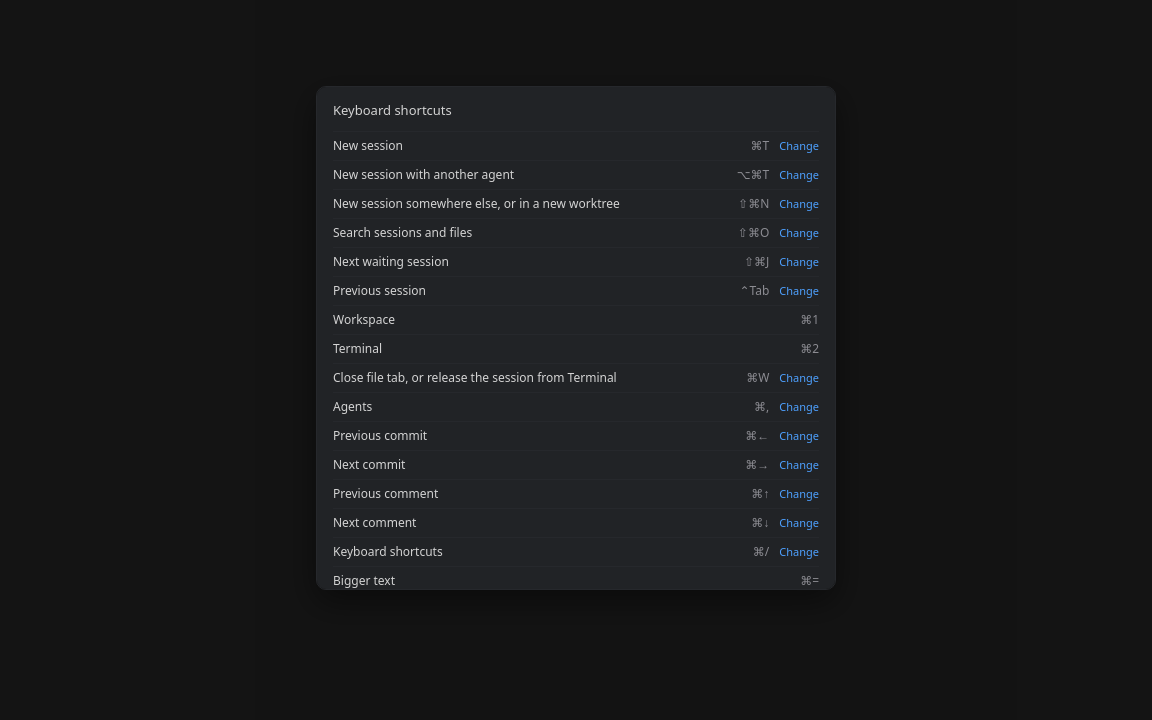
ShortcutsDialog › moves a shortcut to the keys pressed next, keeps it, and puts it back
Expected: the text "⌘T" is shown, [751,137,769,154]
Expected: the text "⌘2" is shown, [800,340,819,357]
Click the button with aria-label "Change the key for New session" at (799, 146), box [779,138,819,154]
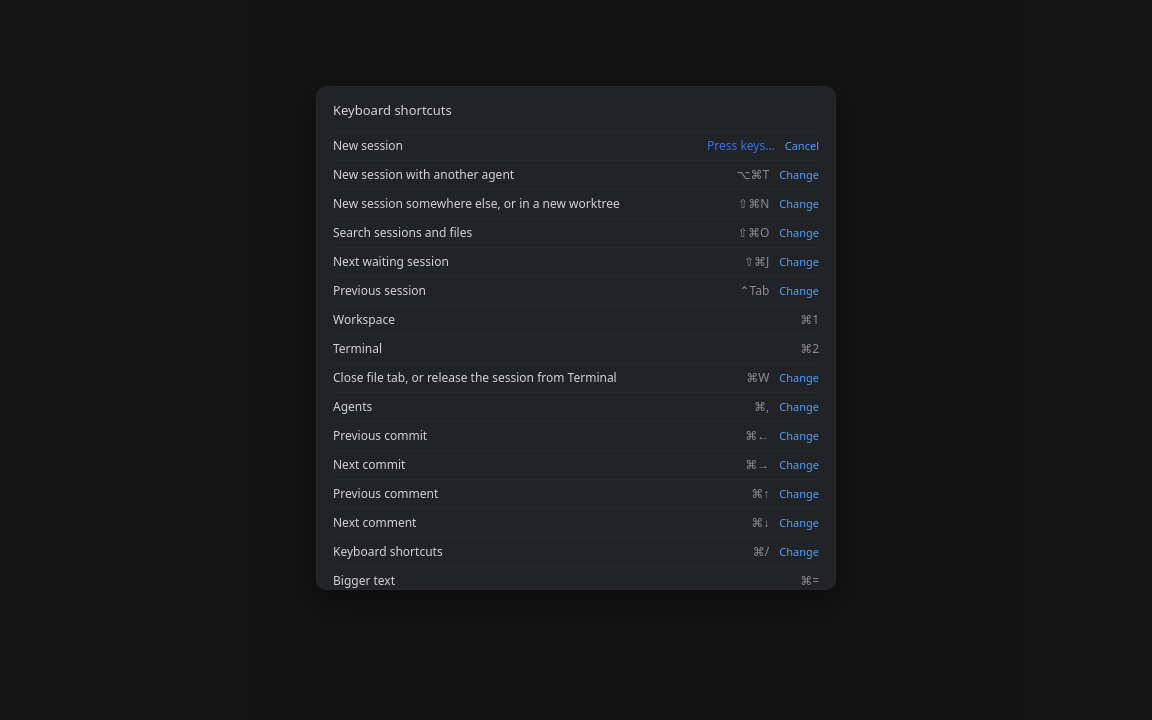
Expected: the text "Press keys…" is shown, [707,137,775,155]
Press Meta
Press k
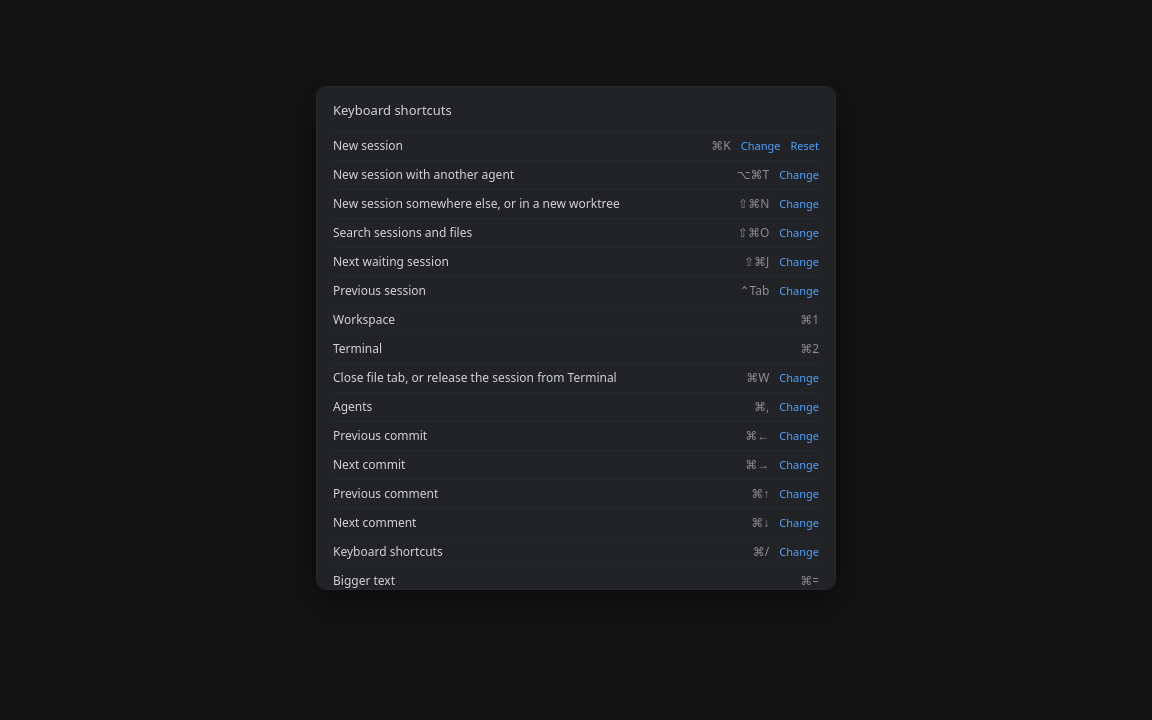
Expected: the text "⌘K" is shown, [711,137,731,154]
Click the button with aria-label "Put New session back on its own key" at (805, 146), box [790,138,819,154]
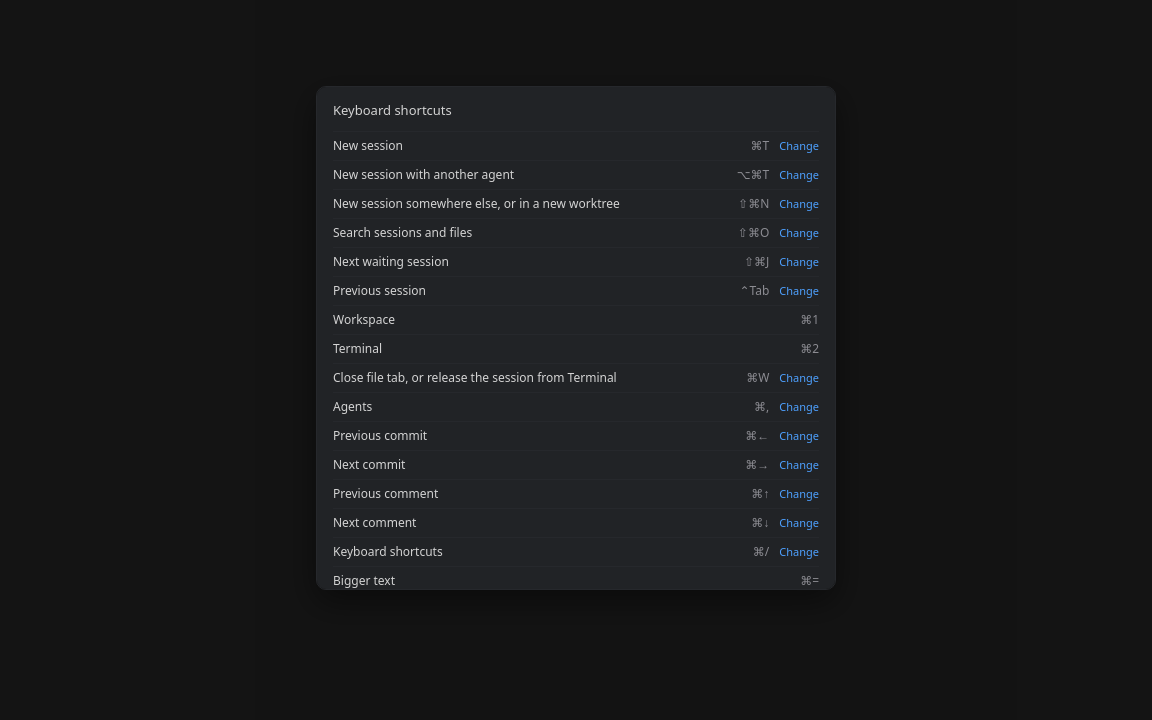
Expected: the text "⌘T" is shown, [751,137,769,154]
